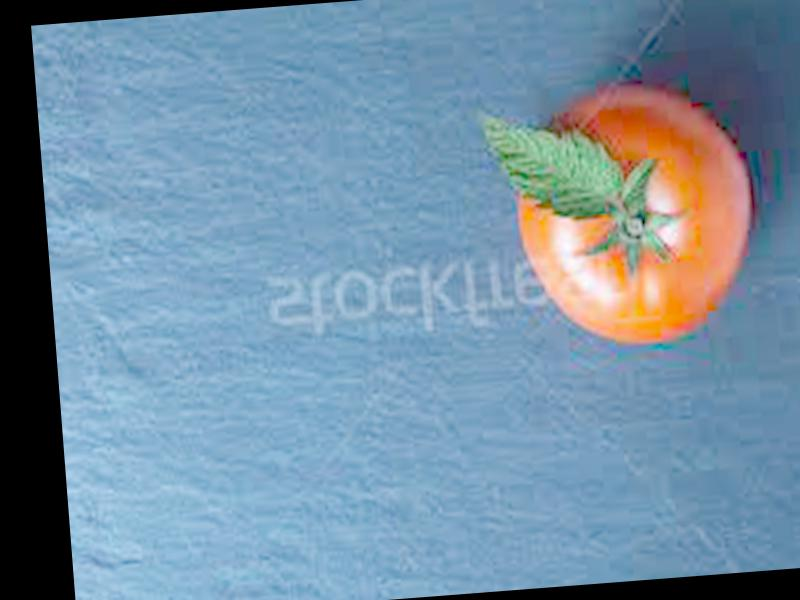Tomato: (507, 82, 758, 351)
